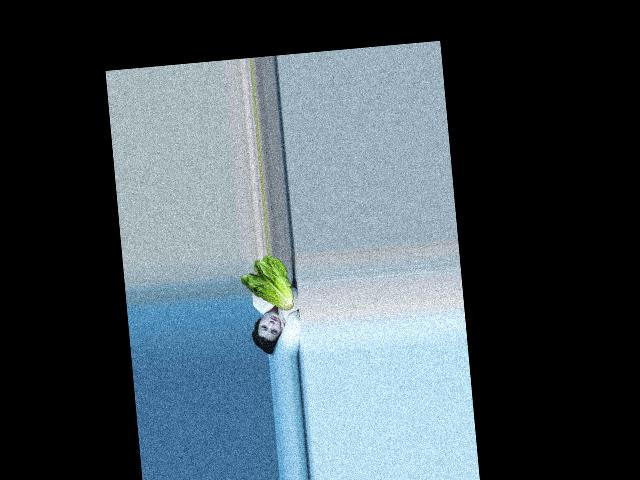lettuce: (239, 251, 298, 313)
